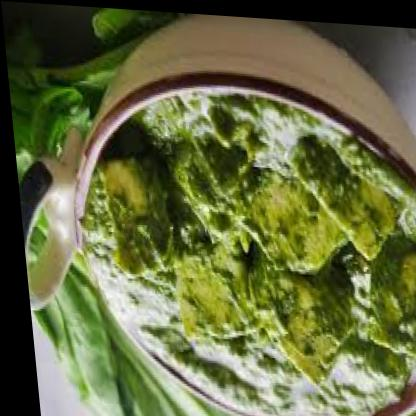palak_paneer: (64, 77, 416, 416)
